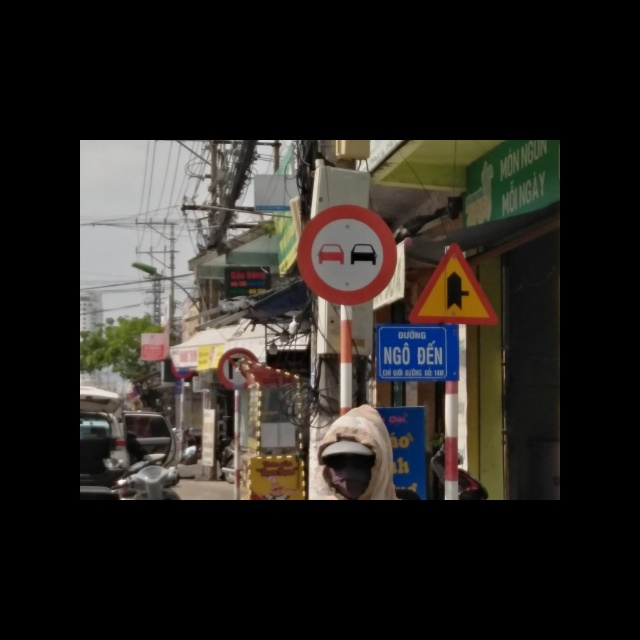Cấm vượt: (295, 203, 398, 306)
Giao nhau với đường không ưu tiên: (406, 239, 498, 325)
